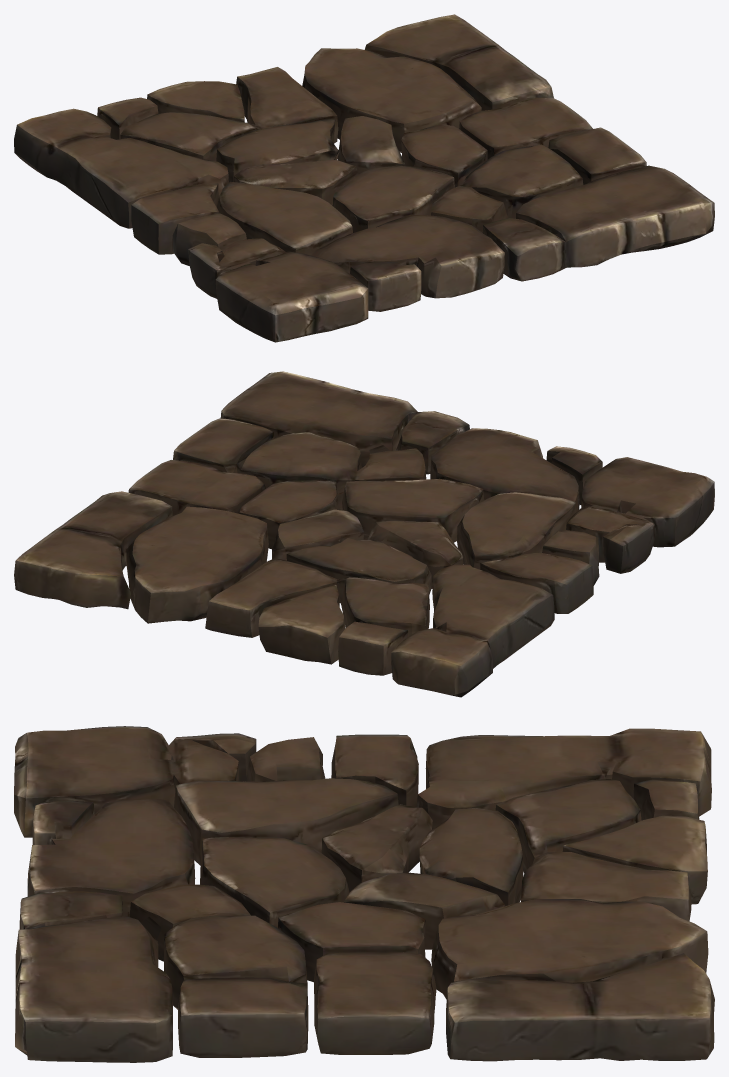
The model's file is t_simple_Stylized.glb.
3 renders of one model, top to bottom at view 1: azimuth 30°, elevation 25°; view 2: azimuth 150°, elevation 25°; view 3: azimuth 270°, elevation 25°, orthographic. The views are drawn at different scales.
Visible parts, largest first — view 1: output; view 2: output; view 3: output.
Boxes of the visible parts, x1=… form: output: x1=14, y1=14, x2=714, y2=342; output: x1=14, y1=371, x2=714, y2=697; output: x1=14, y1=726, x2=714, y2=1062.
Bounding box in the file's own units: 1.99 × 0.1752 × 2.
1 material, 1 textured.
